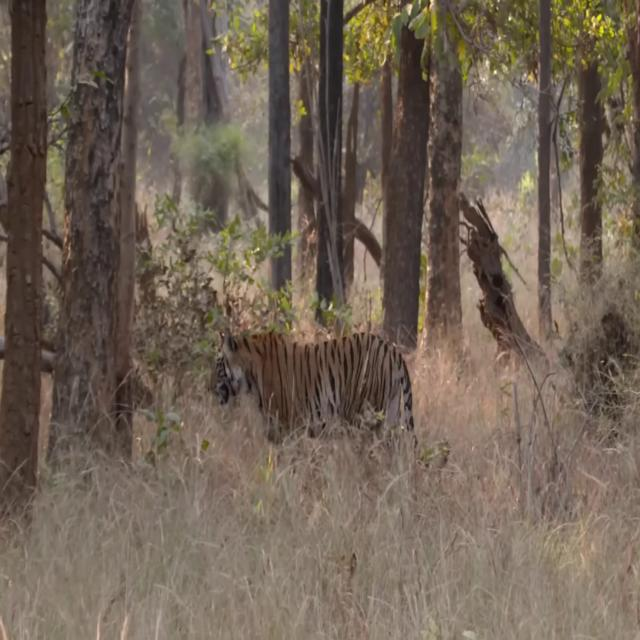tiger: (210, 324, 450, 476)
